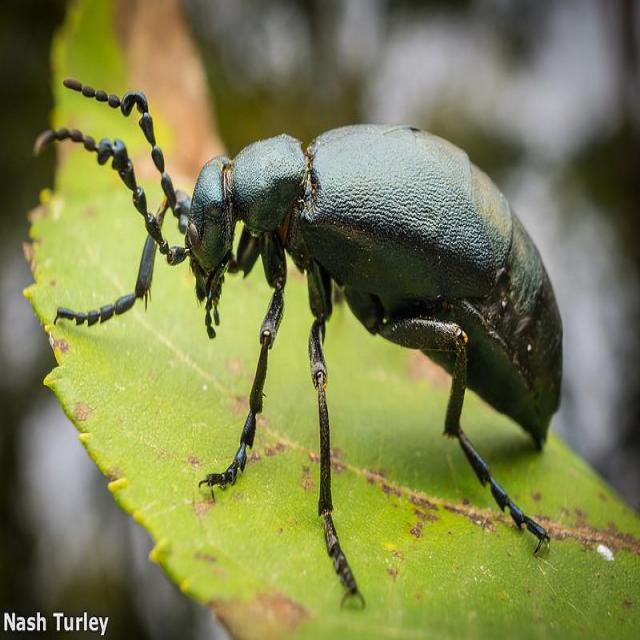BlisterBeetle-Adult-: (22, 53, 562, 559)
